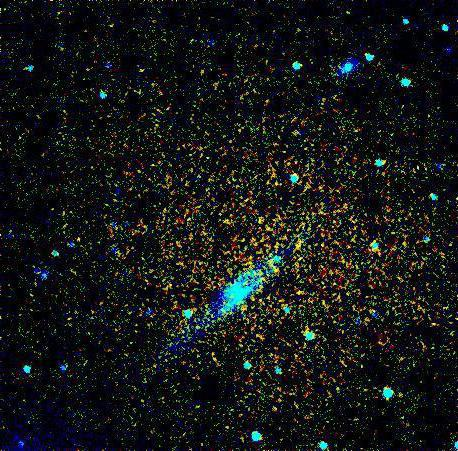star: (284, 230, 314, 260)
